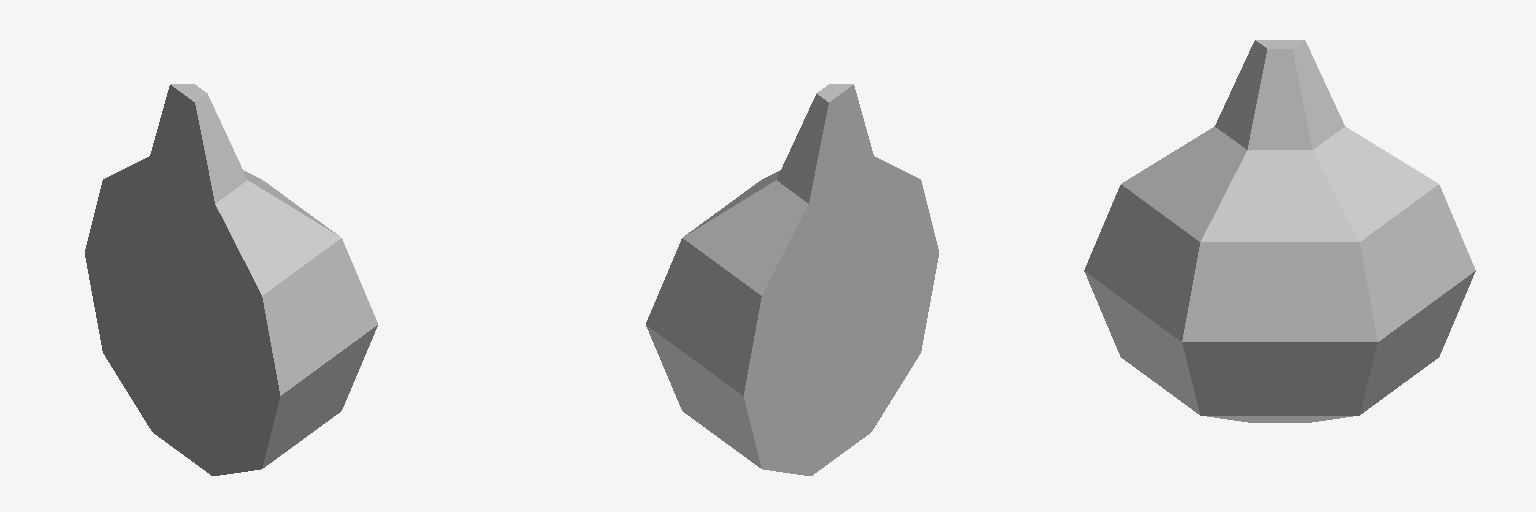
Rendered from onionHalf.obj.
The picture shows the model from 3 angles: view 1: azimuth 30°, elevation 25°; view 2: azimuth 150°, elevation 25°; view 3: azimuth 270°, elevation 25°; orthographic projection.
Visible parts, largest first — view 1: onionHalf; view 2: onionHalf; view 3: onionHalf.
Part boxes in pixels (bbox=[...]): onionHalf: bbox=[85, 84, 377, 475]; onionHalf: bbox=[646, 84, 938, 475]; onionHalf: bbox=[1084, 40, 1475, 422].
Size of the model in its own units: 0.1065 by 0.25 by 0.246.